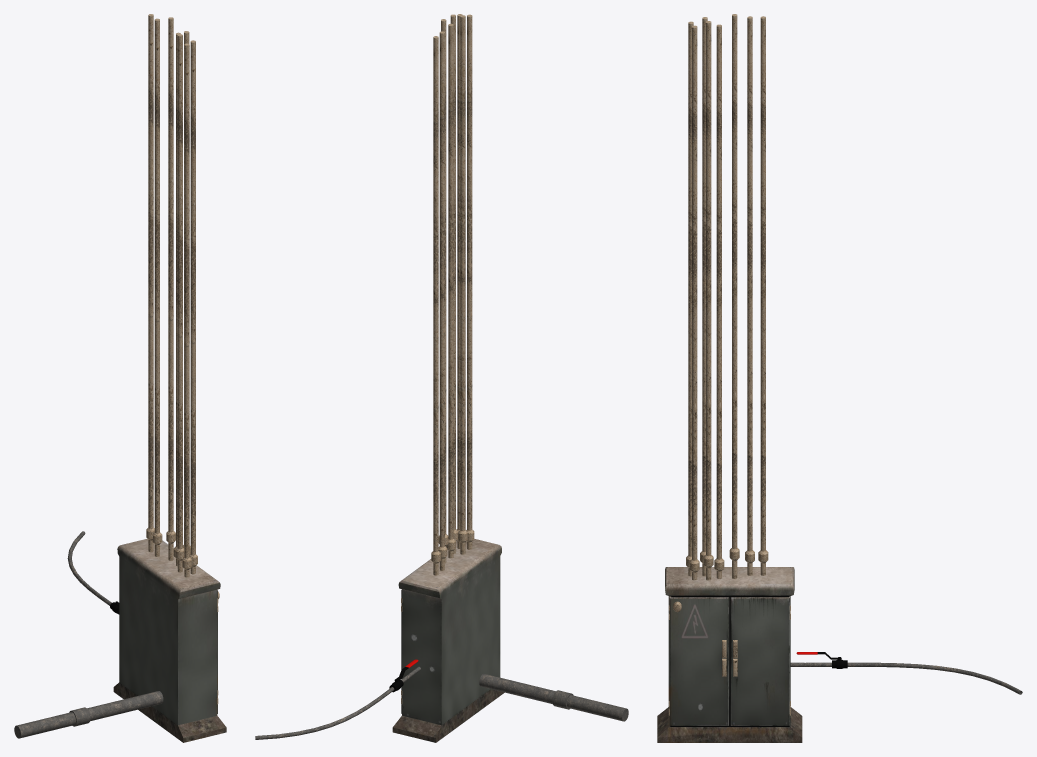
The model's file is elect box.fbx.
The picture shows the model from 3 angles, left to right: view 1: azimuth 30°, elevation 25°; view 2: azimuth 150°, elevation 25°; view 3: azimuth 270°, elevation 25°; orthographic projection. The views are drawn at different scales.
Visible parts, largest first — view 1: curved electrical pipe; view 2: curved electrical pipe; view 3: curved electrical pipe.
Boxes of the visible parts, <box> form: curved electrical pipe: <box>14,14,226,742</box>; curved electrical pipe: <box>255,14,628,742</box>; curved electrical pipe: <box>657,14,1022,742</box>.
Bounding box in the file's own units: 248 × 749 × 345.
Materials: 5 (3 with a texture image).
